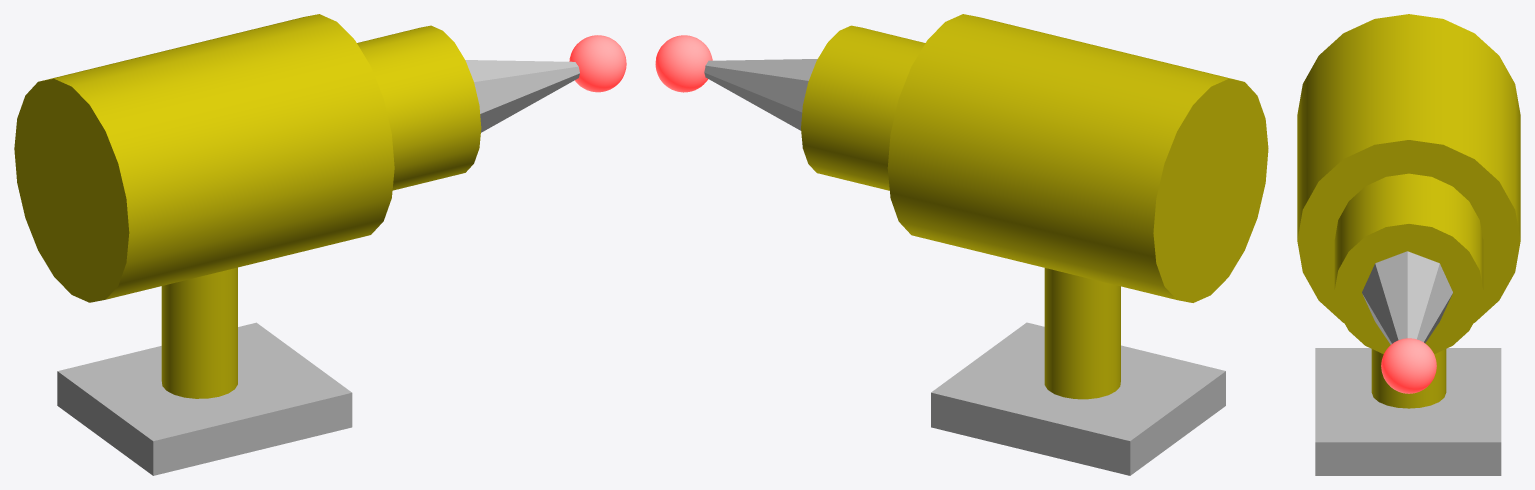
The model's file is Laser_Turret.glb.
3 renders of one model, left to right at view 1: azimuth 30°, elevation 25°; view 2: azimuth 150°, elevation 25°; view 3: azimuth 270°, elevation 25°, orthographic. The views are drawn at different scales.
Visible parts, largest first — view 1: Main_Body_1, Base, Main_Body_2, Stem, Laser_Component_1, Laser_Component_2; view 2: Main_Body_1, Base, Main_Body_2, Stem, Laser_Component_1, Laser_Component_2; view 3: Main_Body_1, Base, Main_Body_2, Laser_Component_1, Laser_Component_2, Stem.
Part boxes in pixels (<box>): Main_Body_1: <box>14,14,394,302</box>; Base: <box>57,322,352,475</box>; Main_Body_2: <box>357,25,481,190</box>; Stem: <box>161,267,237,398</box>; Laser_Component_1: <box>465,60,579,132</box>; Laser_Component_2: <box>569,35,626,92</box>; Main_Body_1: <box>887,14,1268,302</box>; Base: <box>931,322,1225,475</box>; Main_Body_2: <box>801,25,925,190</box>; Stem: <box>1044,268,1120,399</box>; Laser_Component_1: <box>704,59,817,130</box>; Laser_Component_2: <box>655,35,712,92</box>; Main_Body_1: <box>1297,14,1520,322</box>; Base: <box>1315,348,1501,475</box>; Main_Body_2: <box>1334,173,1483,353</box>; Laser_Component_1: <box>1362,251,1452,344</box>; Laser_Component_2: <box>1381,338,1436,393</box>; Stem: <box>1371,349,1446,408</box>.
Bounding box in the file's own units: 1.66 × 1.04 × 0.6.
